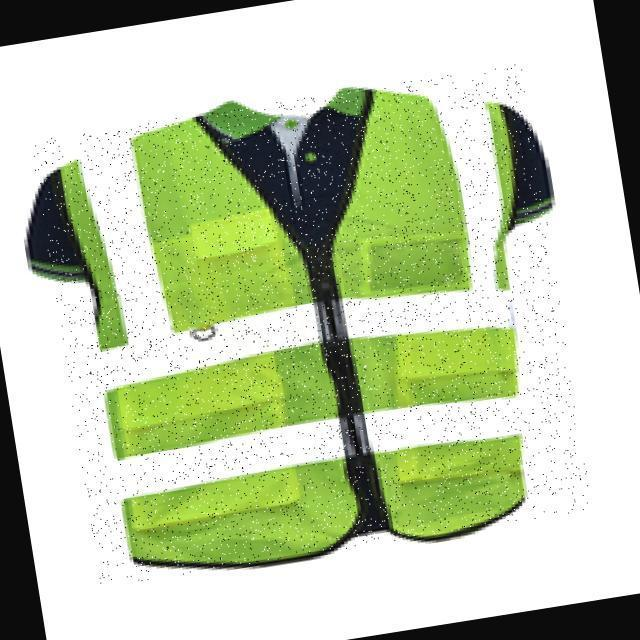vest: (30, 63, 593, 588)
